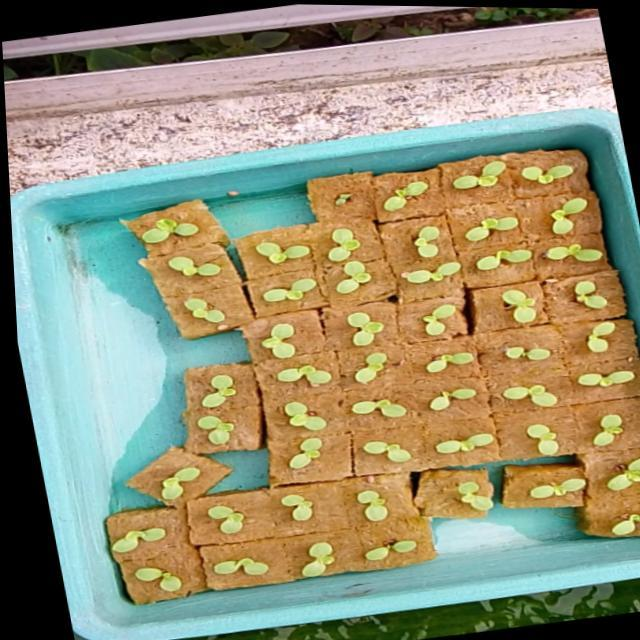Baby: (155, 458, 210, 504), (570, 414, 631, 455), (120, 563, 190, 598), (132, 528, 187, 564), (274, 363, 326, 396), (415, 304, 465, 338), (490, 337, 555, 363), (263, 278, 321, 307), (264, 404, 323, 432), (572, 274, 615, 310), (541, 241, 606, 264), (453, 163, 505, 191), (143, 223, 199, 249), (200, 557, 265, 579), (383, 184, 429, 214), (402, 263, 461, 286), (195, 417, 231, 454), (499, 386, 554, 409), (261, 326, 296, 362), (500, 290, 537, 324), (426, 389, 476, 414), (551, 200, 585, 236), (348, 315, 384, 349), (475, 251, 532, 272), (299, 542, 332, 578), (336, 264, 371, 297), (350, 400, 404, 420), (423, 353, 471, 375), (352, 354, 385, 386), (287, 439, 319, 472), (519, 167, 571, 187), (170, 261, 222, 281), (185, 302, 226, 327), (329, 233, 360, 266), (256, 243, 307, 263), (209, 506, 245, 534), (354, 492, 386, 523), (575, 372, 632, 389), (524, 426, 556, 456), (200, 377, 235, 402), (583, 322, 611, 353), (279, 496, 311, 523), (414, 227, 440, 260), (474, 219, 517, 237), (370, 443, 406, 464)
